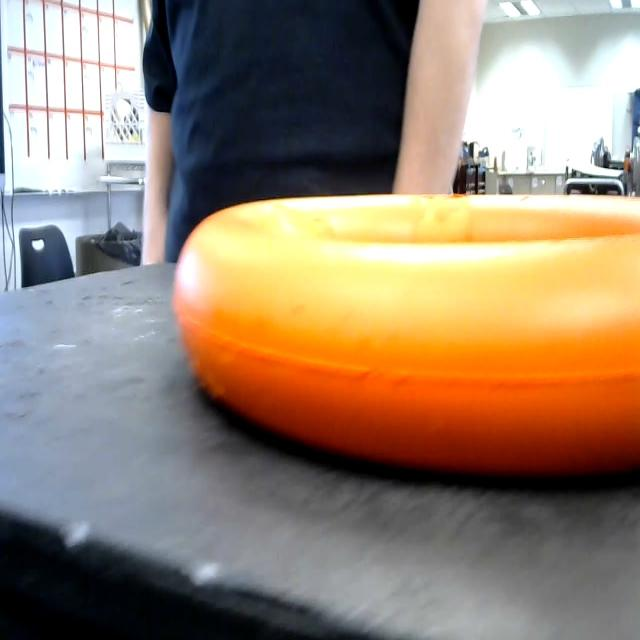note: (164, 188, 640, 475)
